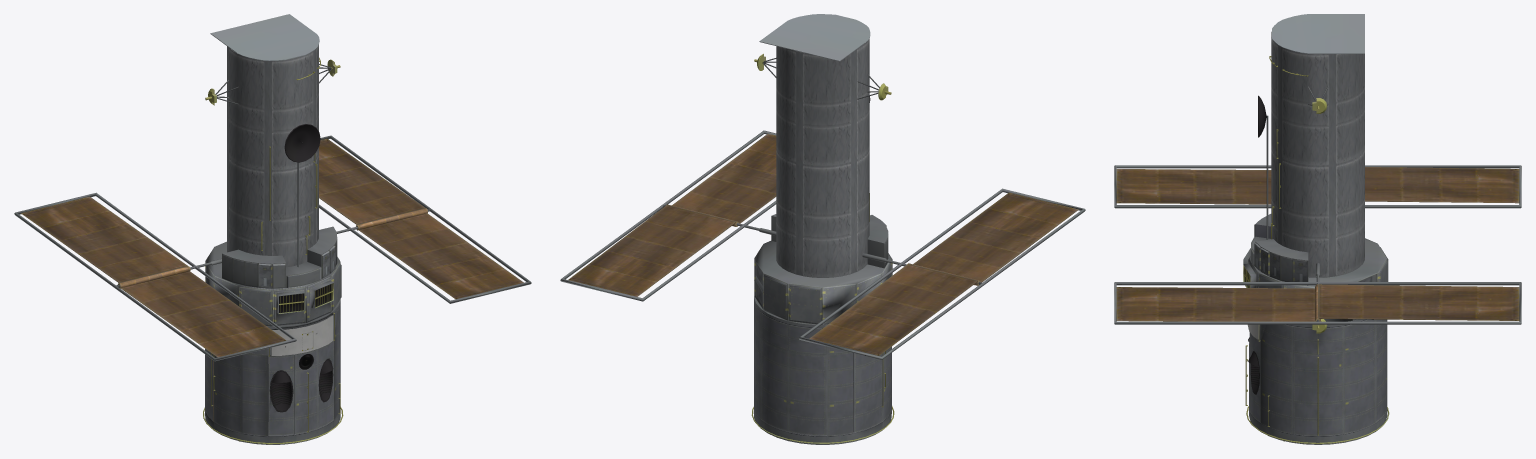
Rendered from hubble.glb.
3 views of the same model, side by side, from view 1: azimuth 30°, elevation 25°; view 2: azimuth 150°, elevation 25°; view 3: azimuth 270°, elevation 25° (orthographic).
Parts seen in each view (by area): view 1: hst; view 2: hst; view 3: hst.
Boxes of the visible parts, bbox=[...] form: hst: bbox=[14, 14, 531, 444]; hst: bbox=[560, 14, 1085, 444]; hst: bbox=[1114, 14, 1521, 444].
Size of the model in its own units: 458 by 525 by 501.
5 materials, 5 textured.
